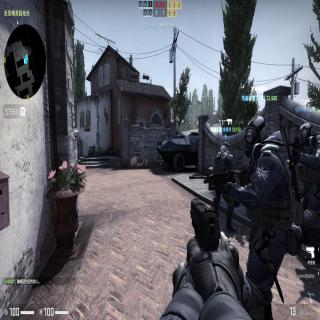CT-Body: (237, 113, 294, 265), (214, 140, 235, 180)
CT-Head: (242, 114, 268, 156), (298, 122, 314, 148), (222, 140, 230, 151)
